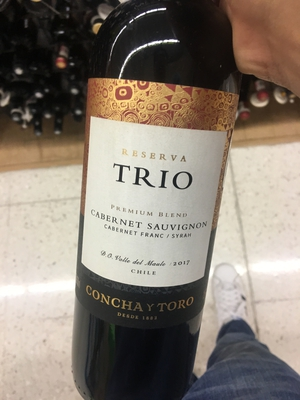trio cabernet sauvignon: (67, 28, 250, 389)
